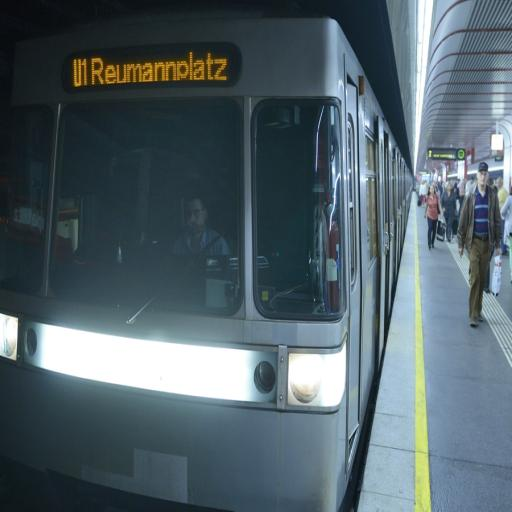Silberpfeil: (0, 7, 417, 512)
